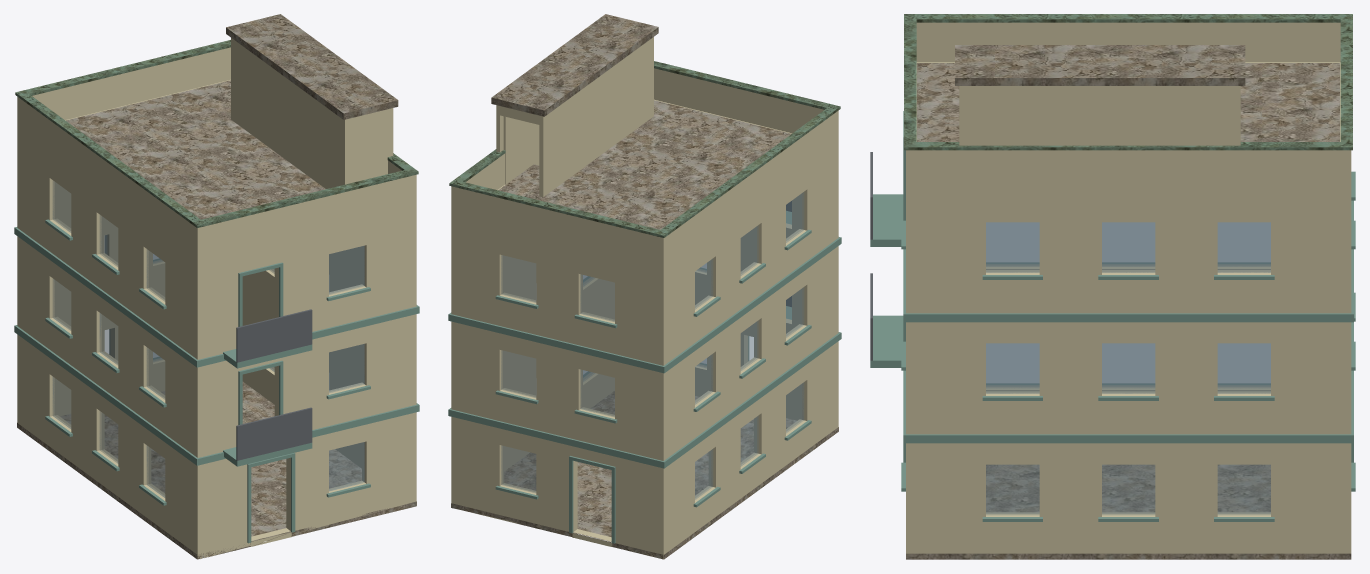
Rendered from bay-townhouse-yellow.zfix-v9.lod1.glb.
3 views of the same model, side by side, from view 1: azimuth 30°, elevation 25°; view 2: azimuth 150°, elevation 25°; view 3: azimuth 270°, elevation 25° (orthographic). The views are drawn at different scales.
Visible parts, largest first — view 1: bay-townhouse-yellow; view 2: bay-townhouse-yellow; view 3: bay-townhouse-yellow.
Part boxes in pixels (x1,y1,x2,y2): bay-townhouse-yellow: (14, 14, 419, 559); bay-townhouse-yellow: (448, 14, 841, 559); bay-townhouse-yellow: (870, 14, 1355, 559).
Bounding box in the file's own units: 7.2 × 11.96 × 10.9.
3 materials, 1 textured.
